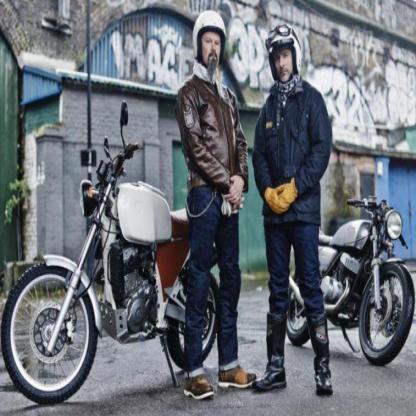helmet: (265, 24, 302, 82), (191, 10, 227, 66)
